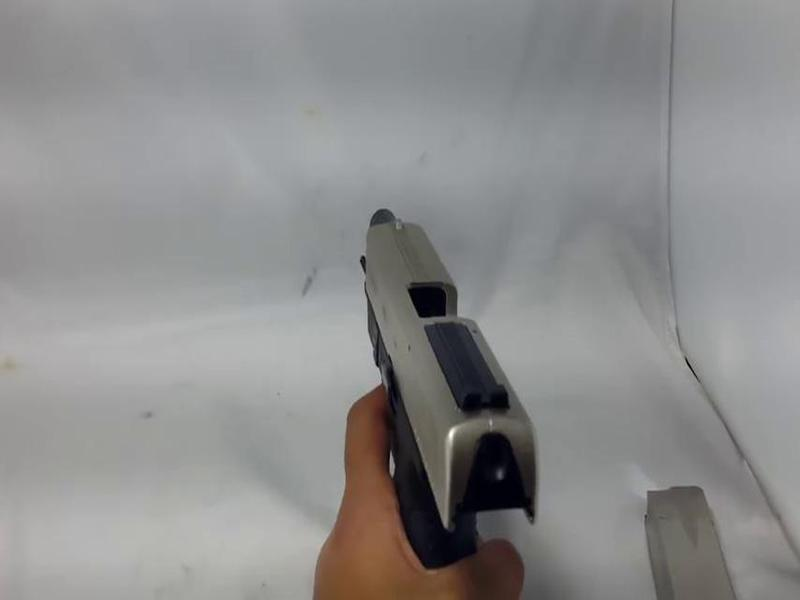Pistola: (269, 181, 557, 591)
